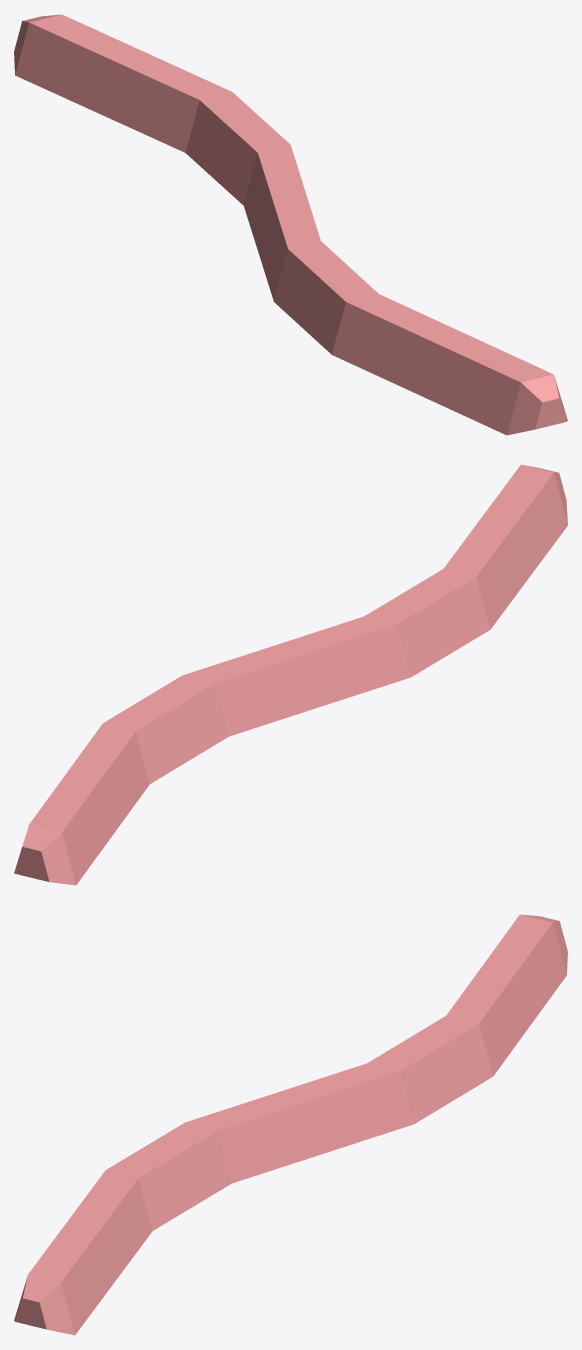
Rendered from Worm1.fbx.
3 views of the same model, one above another, from view 1: azimuth 30°, elevation 25°; view 2: azimuth 150°, elevation 25°; view 3: azimuth 330°, elevation 25° (orthographic).
Visible parts, largest first — view 1: Worm1; view 2: Worm1; view 3: Worm1.
Boxes of the visible parts, bbox=[...] form: Worm1: bbox=[14, 14, 567, 435]; Worm1: bbox=[14, 464, 567, 885]; Worm1: bbox=[14, 914, 567, 1335].
Size of the model in its own units: 12.57 by 3.76 by 71.45.
